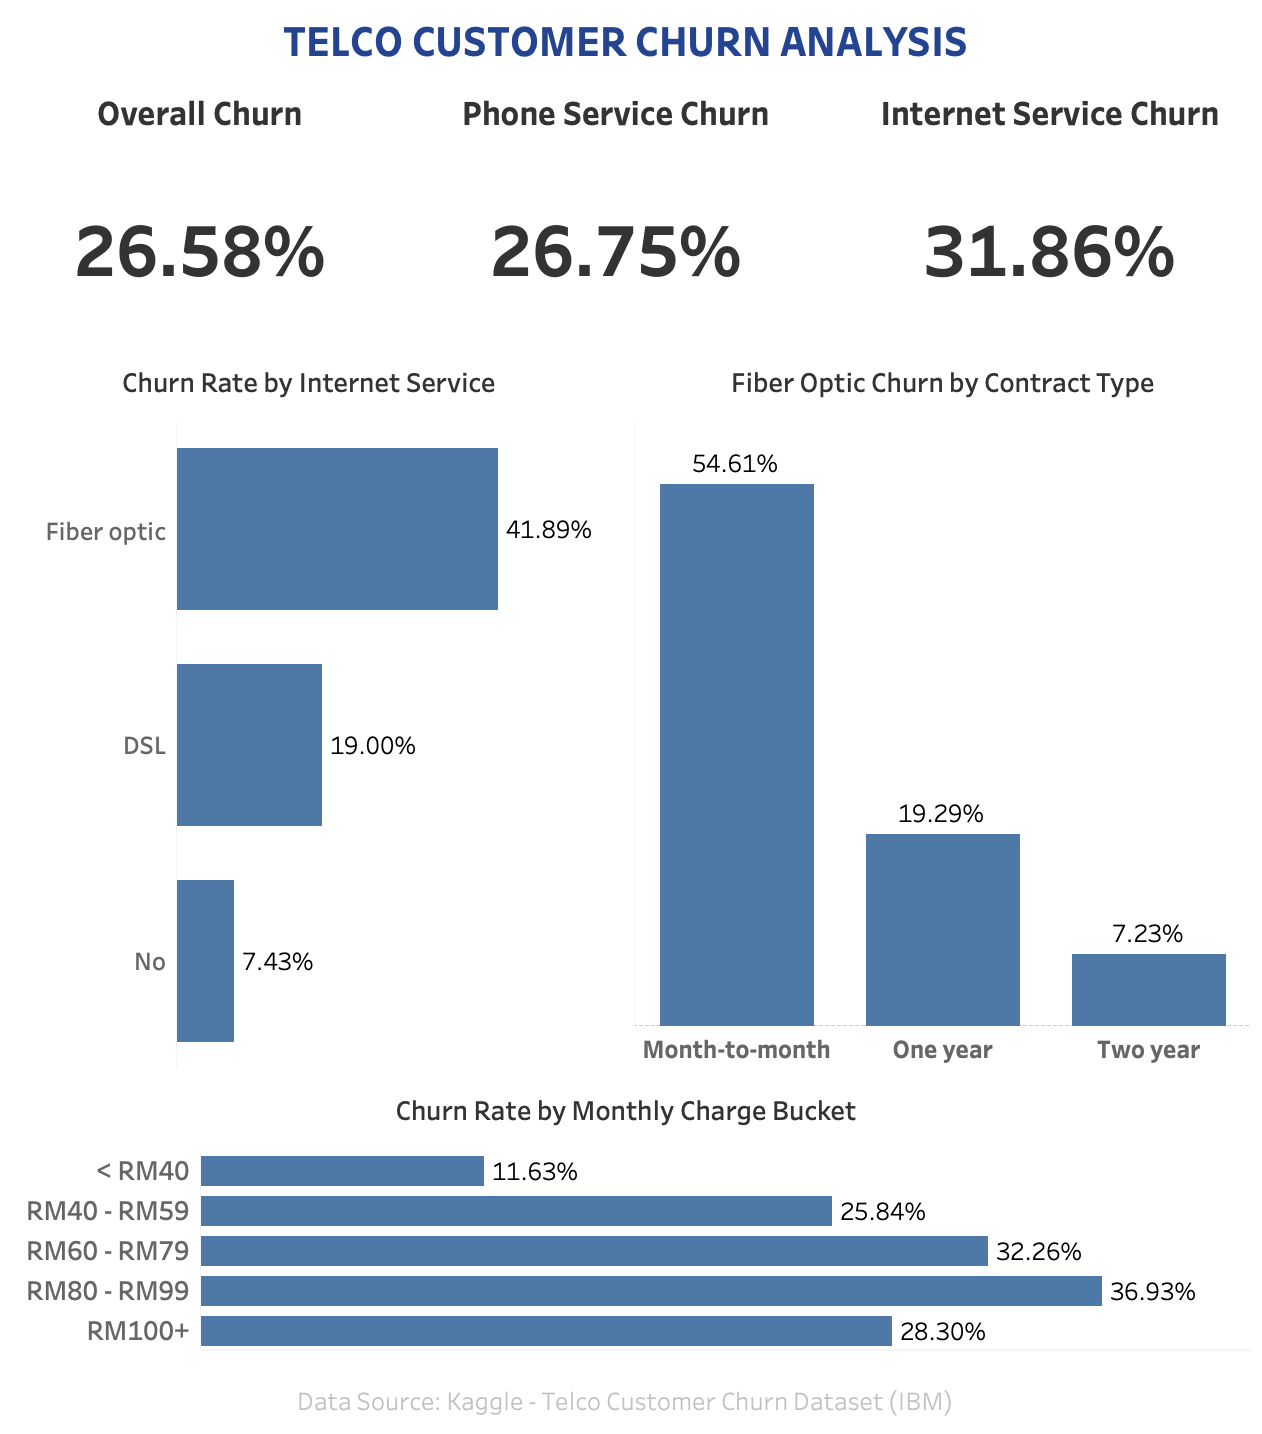

The dashboard page shown, as its layout file describes it:
{"tool":"tableau","page":{"name":"Dashboard 1","canvas":[650,860],"ordinal":0},"visuals":[{"type":"title","box":[8,9.5,634,41.6]},{"type":"worksheet","title":"Overall Churn","mark":"Automatic","box":[8,51.1,208,162.9]},{"type":"worksheet","title":"Churn - Phone Service","mark":"Automatic","box":[216,51.1,217,162.9]},{"type":"worksheet","title":"Churn - Internet Service","mark":"Automatic","box":[433,51.1,209,162.9]},{"type":"worksheet","title":"CR by Internet Service","mark":"Automatic","rows":["internet_service"],"cols":["Calculation_1758892784451584"],"box":[8,214,317,432.1]},{"type":"worksheet","title":"Fiber Optic Churn by Contract","mark":"Automatic","rows":["Calculation_1758892784451584"],"cols":["contract"],"box":[325,214,317,432.1]},{"type":"worksheet","title":"CR by Monthly Charges","mark":"Automatic","rows":["Bucket_Monthly_Charges"],"cols":["Calculation_1758892784451584"],"box":[8,646.2,634,204.3]},{"type":"text","box":[116,826.7,417,23.8]}]}

Visuals, with their boxes on the page's 650x860 design canvas (x1, y1, x2, y2). These are canvas units, not pixel positions in the 1262x1434 screenshot, which may show the page scaled, cropped or inside an application window:
title: <region>8, 10, 642, 51</region>
"Overall Churn" worksheet: <region>8, 51, 216, 214</region>
"Churn - Phone Service" worksheet: <region>216, 51, 433, 214</region>
"Churn - Internet Service" worksheet: <region>433, 51, 642, 214</region>
"CR by Internet Service" worksheet: <region>8, 214, 325, 646</region>
"Fiber Optic Churn by Contract" worksheet: <region>325, 214, 642, 646</region>
"CR by Monthly Charges" worksheet: <region>8, 646, 642, 850</region>
text: <region>116, 827, 533, 850</region>
